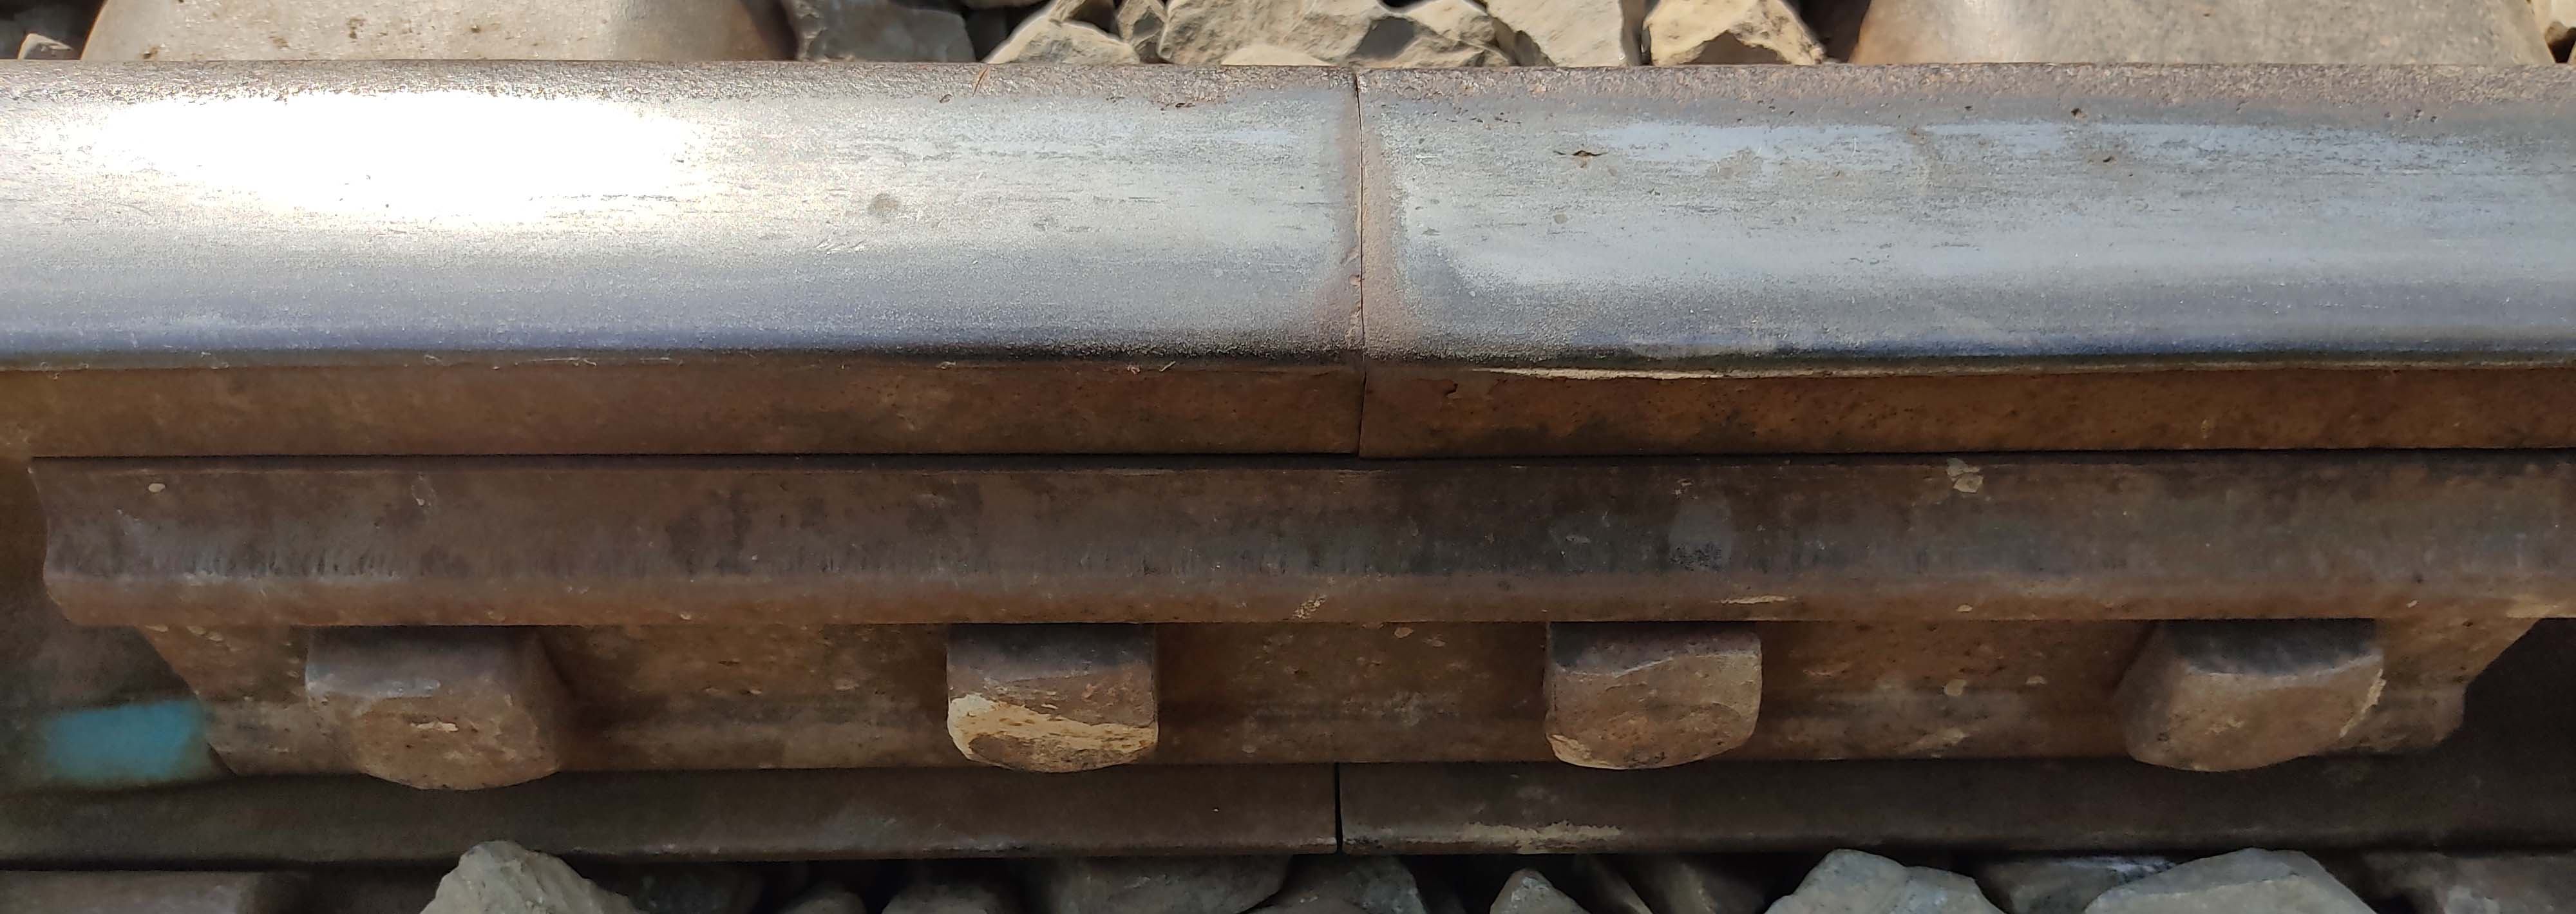error2: (1275, 39, 1452, 424)
